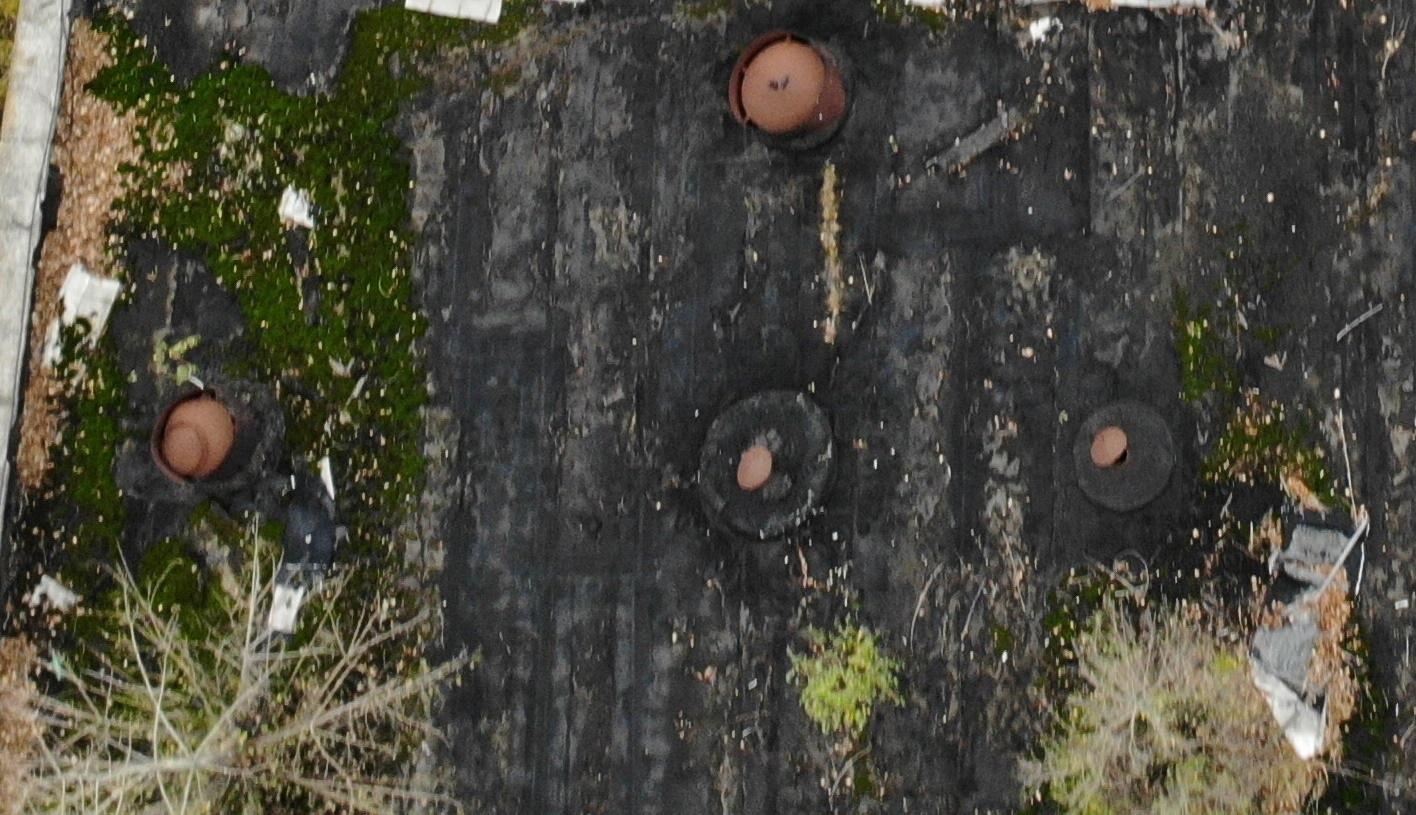tree: (16, 518, 472, 812), (1013, 547, 1282, 814), (763, 578, 930, 784)
